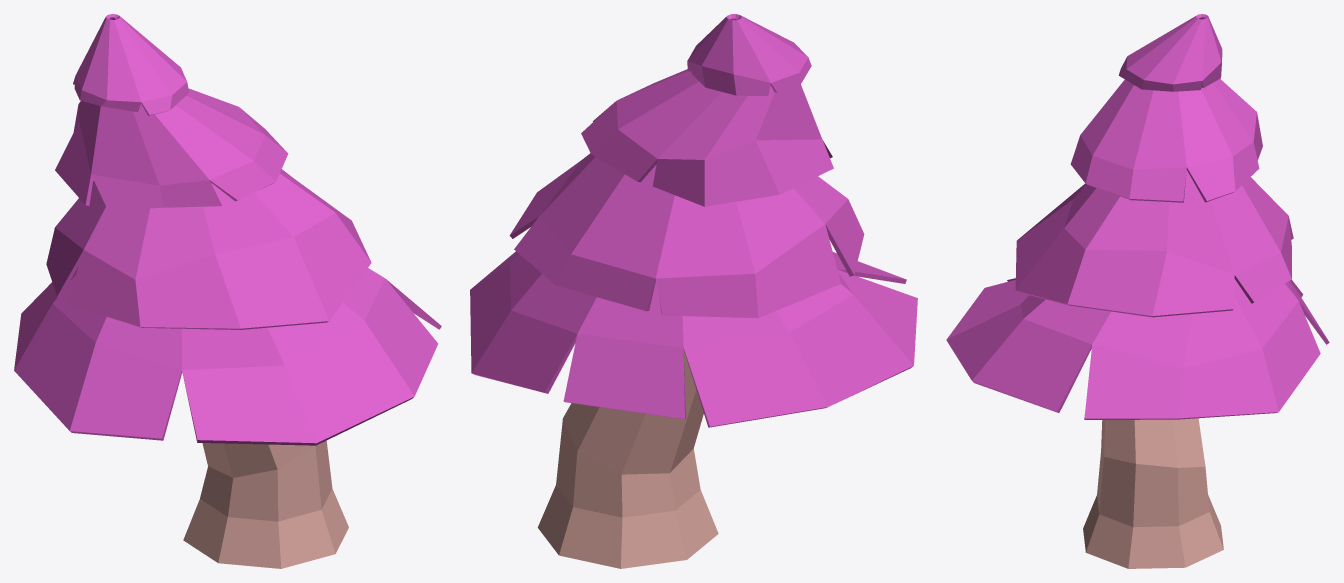
Rendered from ENV_pinkdefaulttree_color.fbx.
3 renders of one model, left to right at view 1: azimuth 30°, elevation 25°; view 2: azimuth 150°, elevation 25°; view 3: azimuth 270°, elevation 25°, orthographic. The views are drawn at different scales.
Parts seen in each view (by area): view 1: tree.001; view 2: tree.001; view 3: tree.001.
Part boxes in pixels (bbox=[...]): tree.001: bbox=[14, 14, 441, 568]; tree.001: bbox=[470, 14, 917, 568]; tree.001: bbox=[946, 14, 1329, 568].
Bounding box in the file's own units: 569 × 559 × 766.
